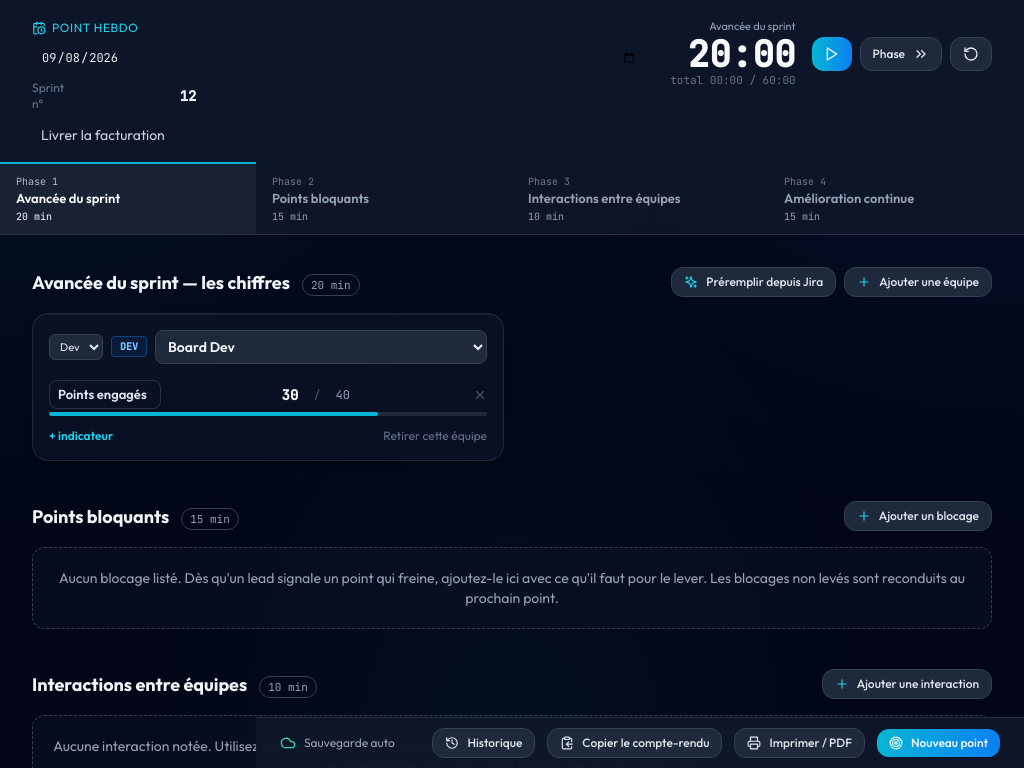
Test: PointHebdoPage › édition collaborative (Socket.io) › conserve un blocage en cours de saisie quand un autre client en ajoute un
Check: the field named "Numéro du sprint" is shown, box [74,81,302,111]
Click the button "Ajouter un blocage": (918, 516) [844,500,992,530]
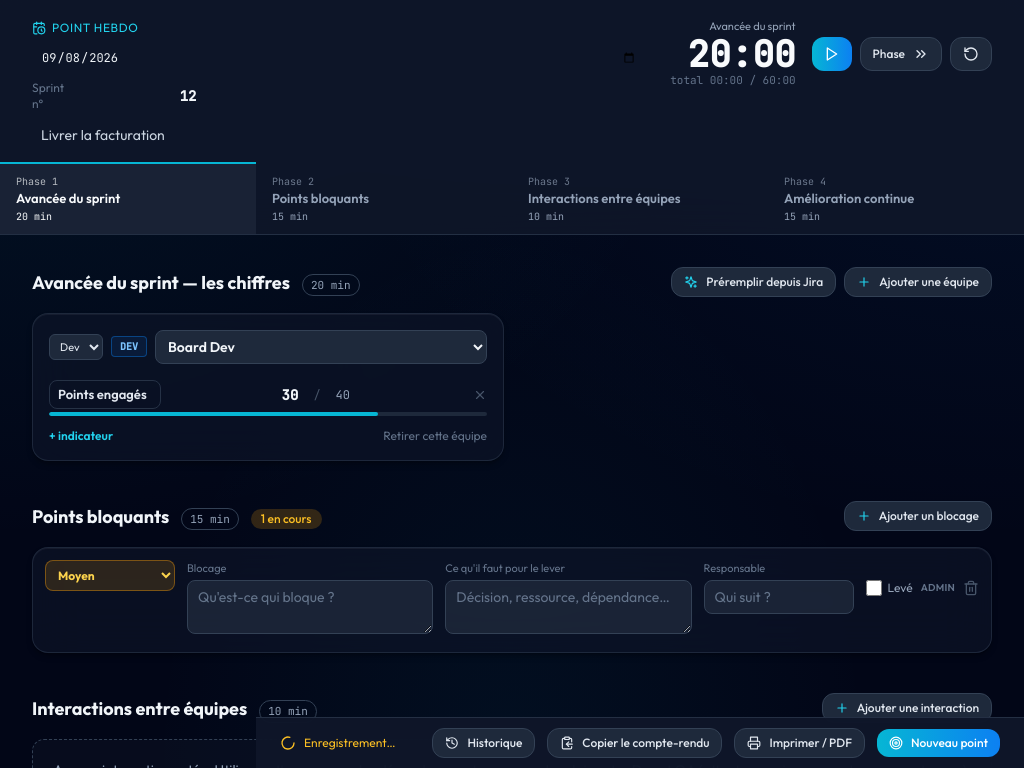
In the text box labelled "Blocage": (310, 607) [187,580,433,634], type "Mon blocage local"
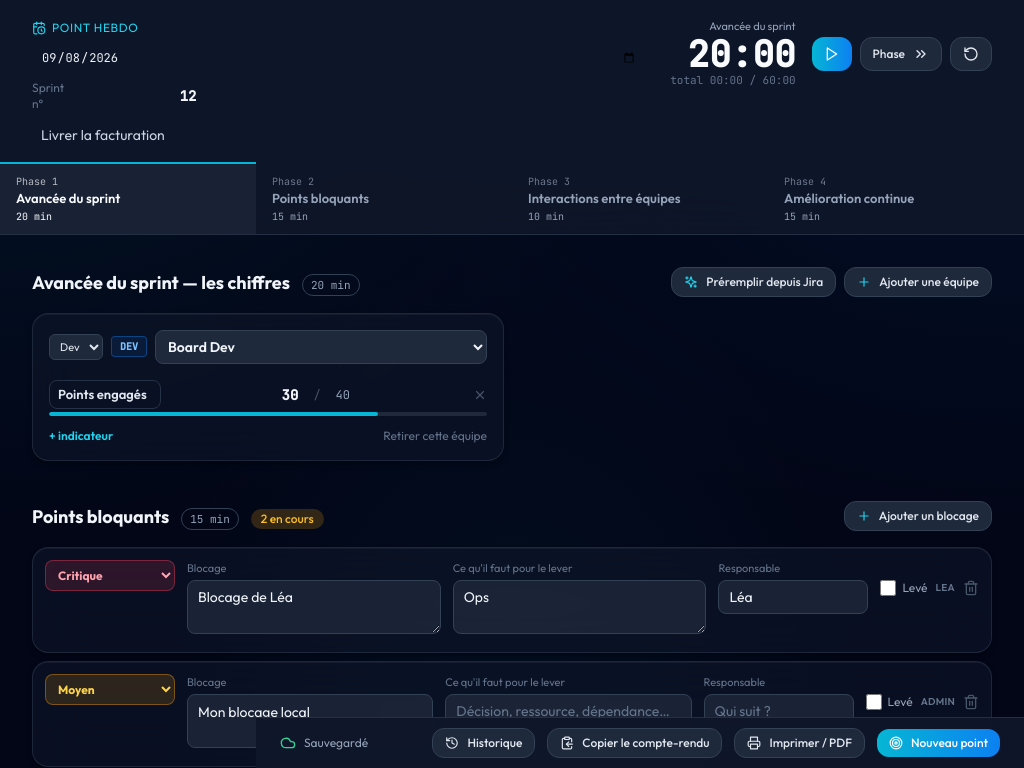
Check: the text box showing "Blocage de Léa" is shown, box [187,580,441,634]
